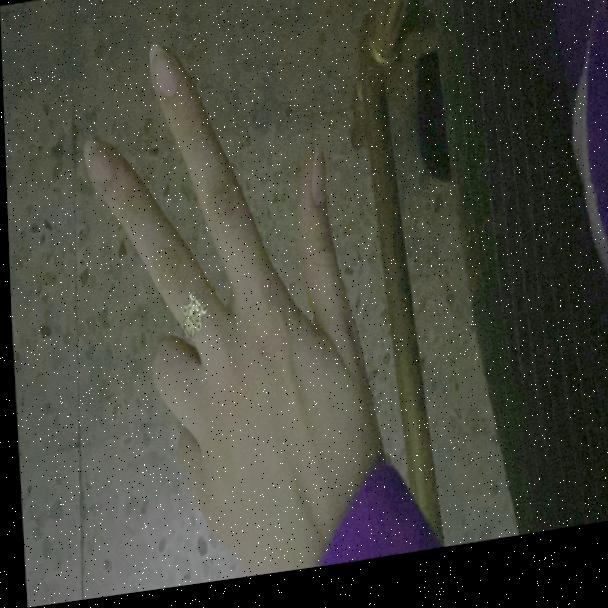three: (70, 11, 374, 576)
